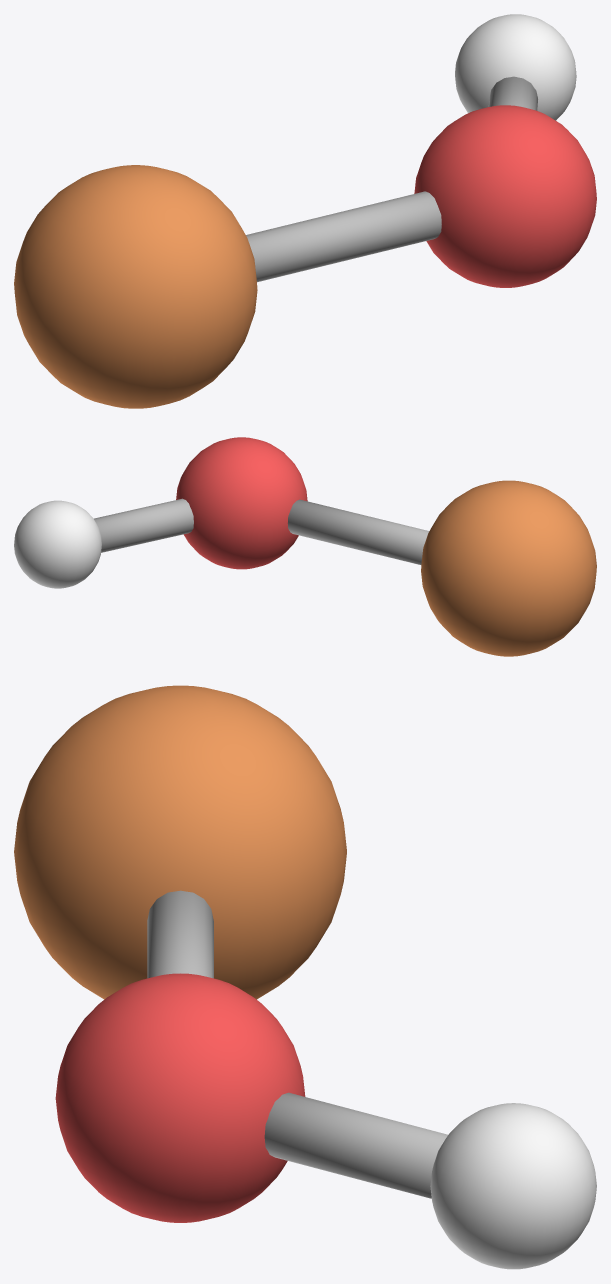
Rendered from FeOH.glb.
The picture shows the model from 3 angles, top to bottom: view 1: azimuth 30°, elevation 25°; view 2: azimuth 150°, elevation 25°; view 3: azimuth 270°, elevation 25°; orthographic projection. The views are drawn at different scales.
Visible parts, largest first — view 1: Sphere, Sphere.001, Cylinder, Sphere.002, Cylinder.001; view 2: Sphere, Sphere.001, Sphere.002, Cylinder, Cylinder.001; view 3: Sphere, Sphere.001, Sphere.002, Cylinder.001, Cylinder.
Part boxes in pixels (left/top/right/bottom): Sphere: left=14, top=165, right=257, bottom=408; Sphere.001: left=414, top=105, right=596, bottom=287; Cylinder: left=246, top=191, right=441, bottom=282; Sphere.002: left=455, top=14, right=576, bottom=120; Cylinder.001: left=488, top=76, right=537, bottom=110; Sphere: left=421, top=480, right=596, bottom=656; Sphere.001: left=176, top=437, right=307, bottom=569; Sphere.002: left=14, top=500, right=101, bottom=588; Cylinder: left=287, top=499, right=429, bottom=564; Cylinder.001: left=94, top=498, right=193, bottom=552; Sphere: left=14, top=685, right=346, bottom=999; Sphere.001: left=55, top=973, right=305, bottom=1222; Sphere.002: left=430, top=1103, right=596, bottom=1269; Cylinder.001: left=264, top=1092, right=448, bottom=1198; Cylinder: left=147, top=890, right=213, bottom=978.
Bounding box in the file's own units: 2.5 × 0.8 × 1.4.
